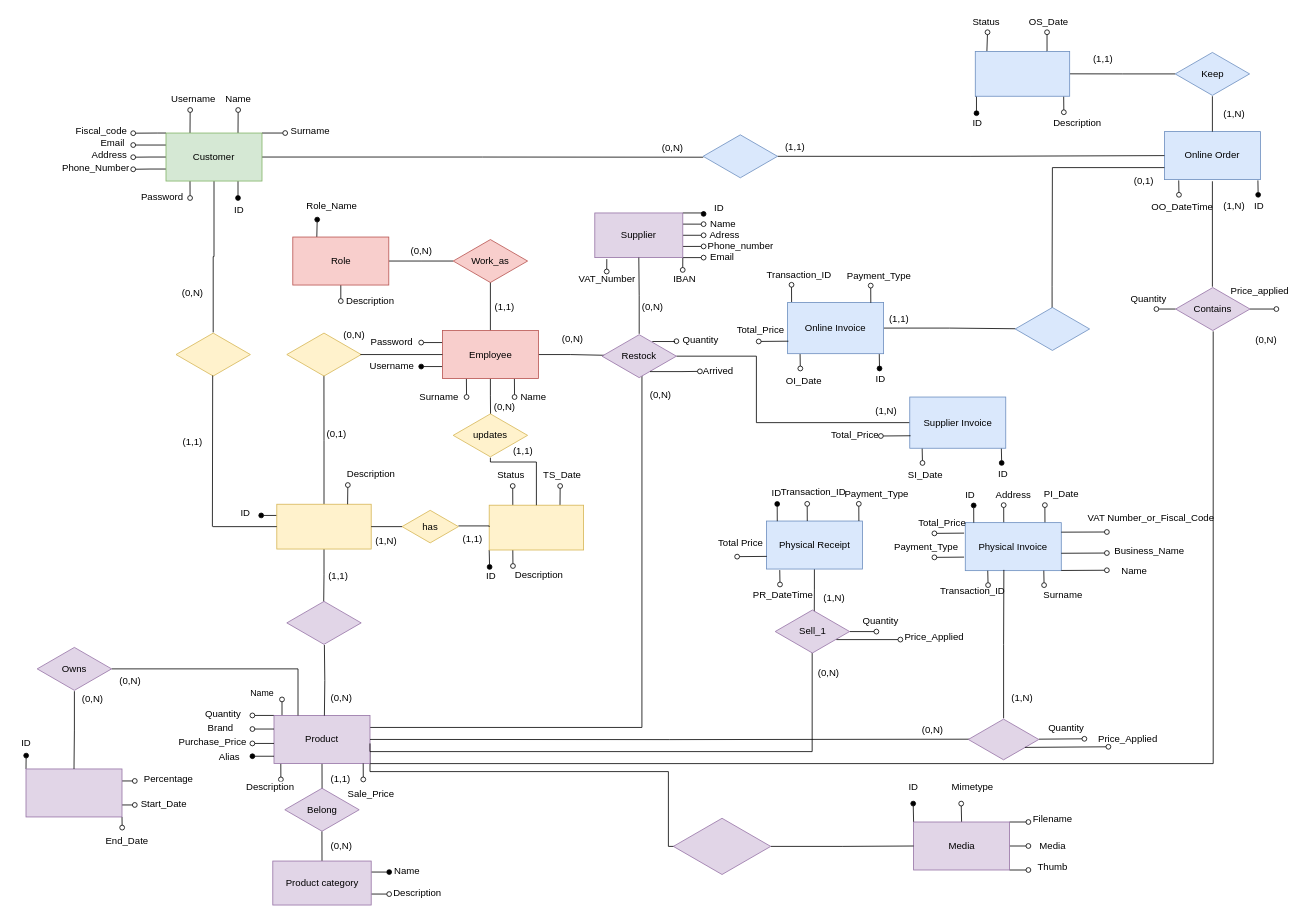
The diagram is 1309 pixels wide and 919 high, and some of its shapes have lost their labels. Here are the shapes that lost their labels. From the top down, the box of each, then its label:
(974, 51, 1070, 96): Order status
(702, 133, 778, 179): Make
(1014, 306, 1090, 351): is_payed_by
(175, 331, 250, 377): Provides
(286, 331, 361, 377): Generate
(276, 503, 371, 549): Assistance ticket
(488, 504, 584, 550): Ticket status
(286, 600, 361, 645): Refers to
(968, 718, 1039, 761): Sell_2
(25, 768, 122, 817): Discount
(673, 816, 771, 876): Rappresented_by
